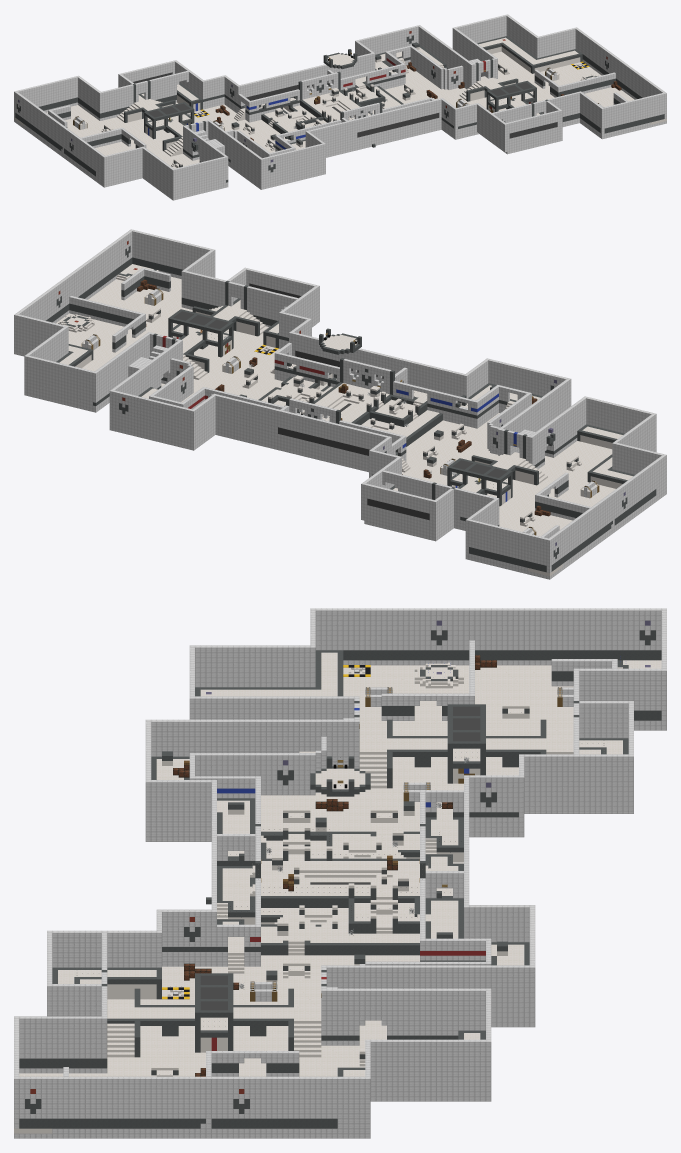
Rendered from minecraft.obj.
3 renders of one model, top to bottom at view 1: azimuth 30°, elevation 25°; view 2: azimuth 150°, elevation 25°; view 3: azimuth 270°, elevation 25°, orthographic. The views are drawn at different scales.
Bounding box in the file's own units: 203 × 27 × 119.
